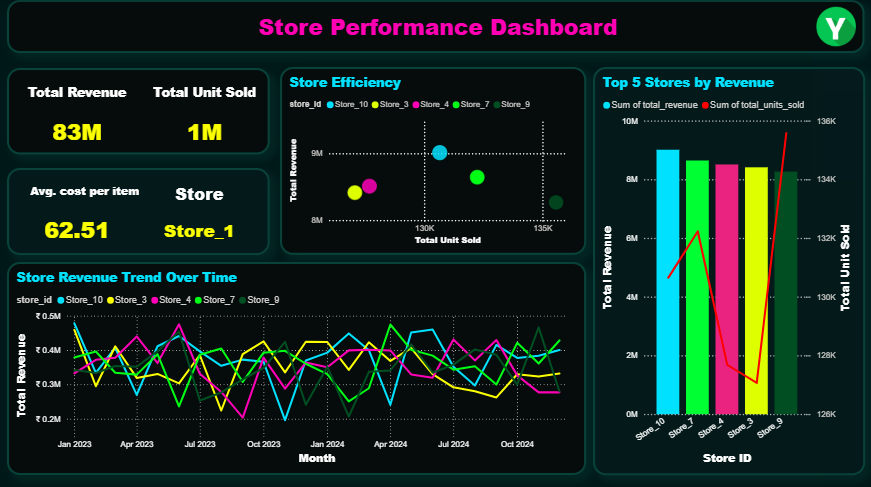

Layout of this report page (visuals, bound fields, positions):
{"tool":"powerbi","page":{"name":"Store Performance Dashboard","canvas":[1280,720],"ordinal":1},"visuals":[{"type":"textbox","box":[10.3,246.9,386.4,127.8],"z":0},{"type":"textbox","box":[10.3,99.9,386.4,127],"z":1000},{"type":"scatterChart","title":"Store Efficiency","fields":{"X":["store_performance_summary_connected.total_units_sold"],"Y":["store_performance_summary_connected.total_revenue"],"Series":["store_performance_summary_connected.store_id"],"Category":["store_performance_summary_connected.avg_revenue_per_unit"],"Size":["Sum(store_performance_summary_connected.avg_revenue_per_unit)"]},"box":[411.4,98.4,449.6,276.2],"z":2000},{"type":"lineStackedColumnComboChart","title":"Top 5 Stores by Revenue","fields":{"Category":["store_performance_summary_connected.store_id"],"Y":["Sum(store_performance_summary_connected.total_revenue)"],"Y2":["Sum(store_performance_summary_connected.total_units_sold)"]},"box":[871.3,98.4,399.7,599.5],"z":3000},{"type":"lineChart","title":"Store Revenue Trend Over Time","fields":{"Category":["sales_summary_monthly_connected.month.Variation.Date Hierarchy.Year"],"Y":["Sum(sales_summary_monthly_connected.total_revenue)"],"Series":["sales_summary_monthly_connected.store_id"]},"box":[10.3,385,850.8,313],"z":4000},{"type":"card","fields":{"Values":["Sum(store_performance_summary_connected.total_revenue)"]},"box":[54.4,160.2,117.6,66.1],"z":5000},{"type":"card","fields":{"Values":["Sum(store_performance_summary_connected.total_units_sold)"]},"box":[246.9,167.5,107.3,52.9],"z":6000},{"type":"card","fields":{"Values":["Avg(store_performance_summary_connected.avg_revenue_per_unit)"]},"box":[55.8,305.6,114.6,64.7],"z":7000},{"type":"textbox","box":[10,0,1260,78.3],"z":8000},{"type":"card","fields":{"Values":["Min(sales_summary_monthly_connected.store_id)"]},"box":[232.2,310,122,60.2],"z":9000},{"type":"textbox","box":[354.1,11.8,578.9,66.1],"z":10000},{"type":"textbox","box":[22,116.1,182.2,51.4],"z":11000},{"type":"textbox","box":[204.2,116.1,192.5,51.4],"z":12000},{"type":"textbox","box":[22,263,210.1,42.6],"z":13000},{"type":"textbox","box":[232.2,263,122,48.5],"z":14000},{"type":"image","box":[1194.6,0,67.6,77.9],"z":15000}]}

Visuals, with their boxes in screenshot pixels (x1, y1, x2, y2), scaled from the page's 1280x720 canvas onto the 871x487 screenshot:
textbox: [7,167,270,253]
textbox: [7,68,270,153]
"Store Efficiency" scatterChart: [280,67,586,253]
"Top 5 Stores by Revenue" lineStackedColumnComboChart: [593,67,865,472]
"Store Revenue Trend Over Time" lineChart: [7,260,586,472]
card - Sum(store_performance_summary_connected.total_revenue): [37,108,117,153]
card - Sum(store_performance_summary_connected.total_units_sold): [168,113,241,149]
card - Avg(store_performance_summary_connected.avg_revenue_per_unit): [38,207,116,250]
textbox: [7,0,864,53]
card - Min(sales_summary_monthly_connected.store_id): [158,210,241,250]
textbox: [241,8,635,53]
textbox: [15,79,139,113]
textbox: [139,79,270,113]
textbox: [15,178,158,207]
textbox: [158,178,241,211]
image: [813,0,859,53]
